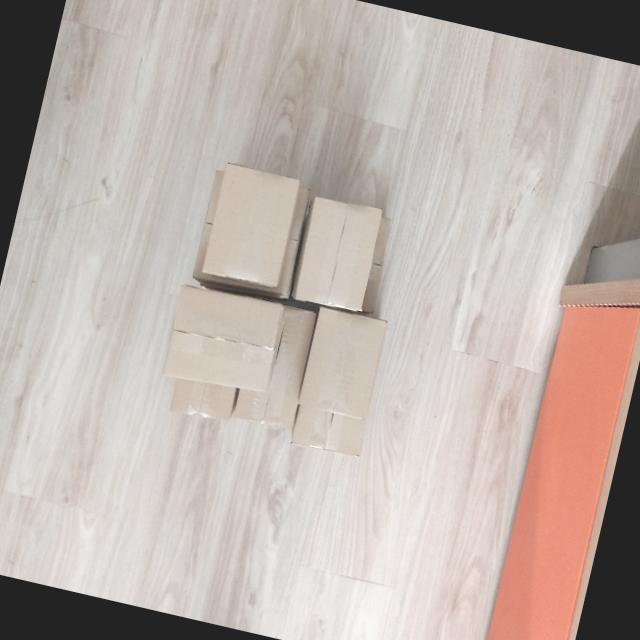box: (158, 279, 290, 397), (198, 160, 310, 292), (287, 190, 386, 314), (294, 302, 390, 423)
